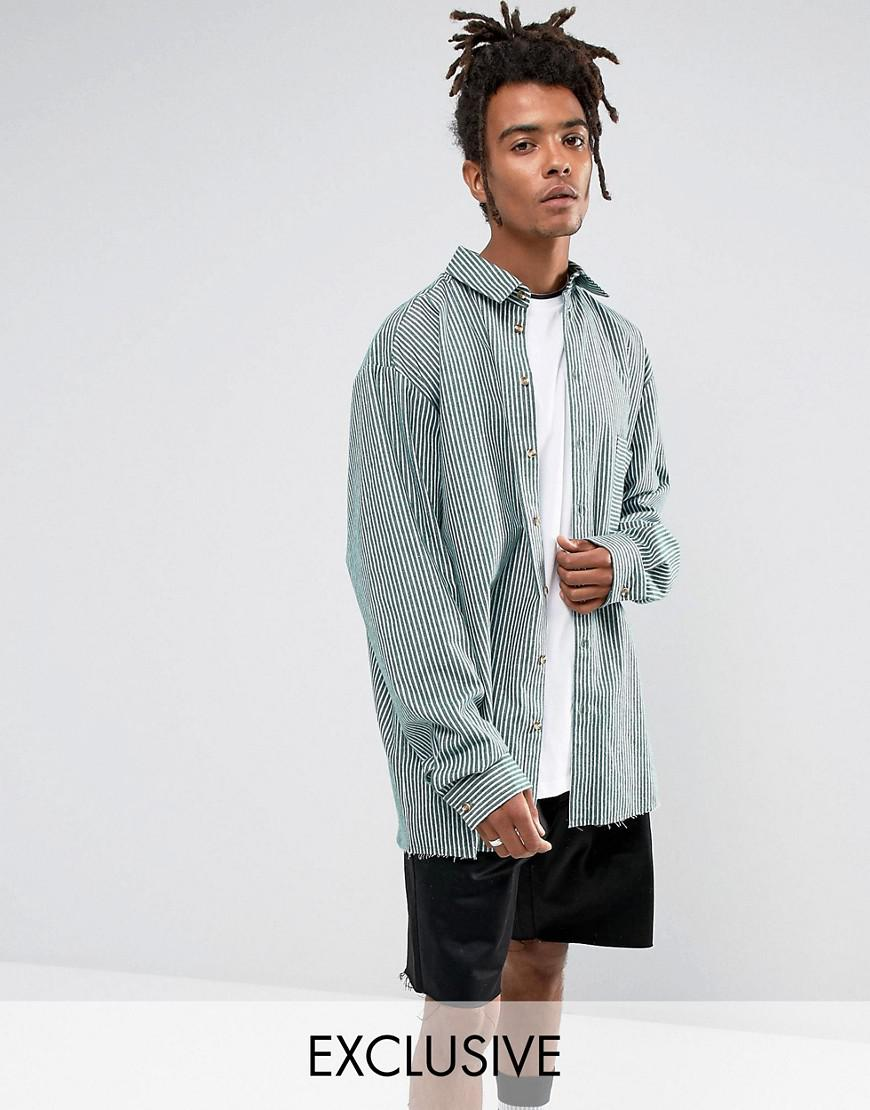teeshirt: (332, 256, 712, 820)
